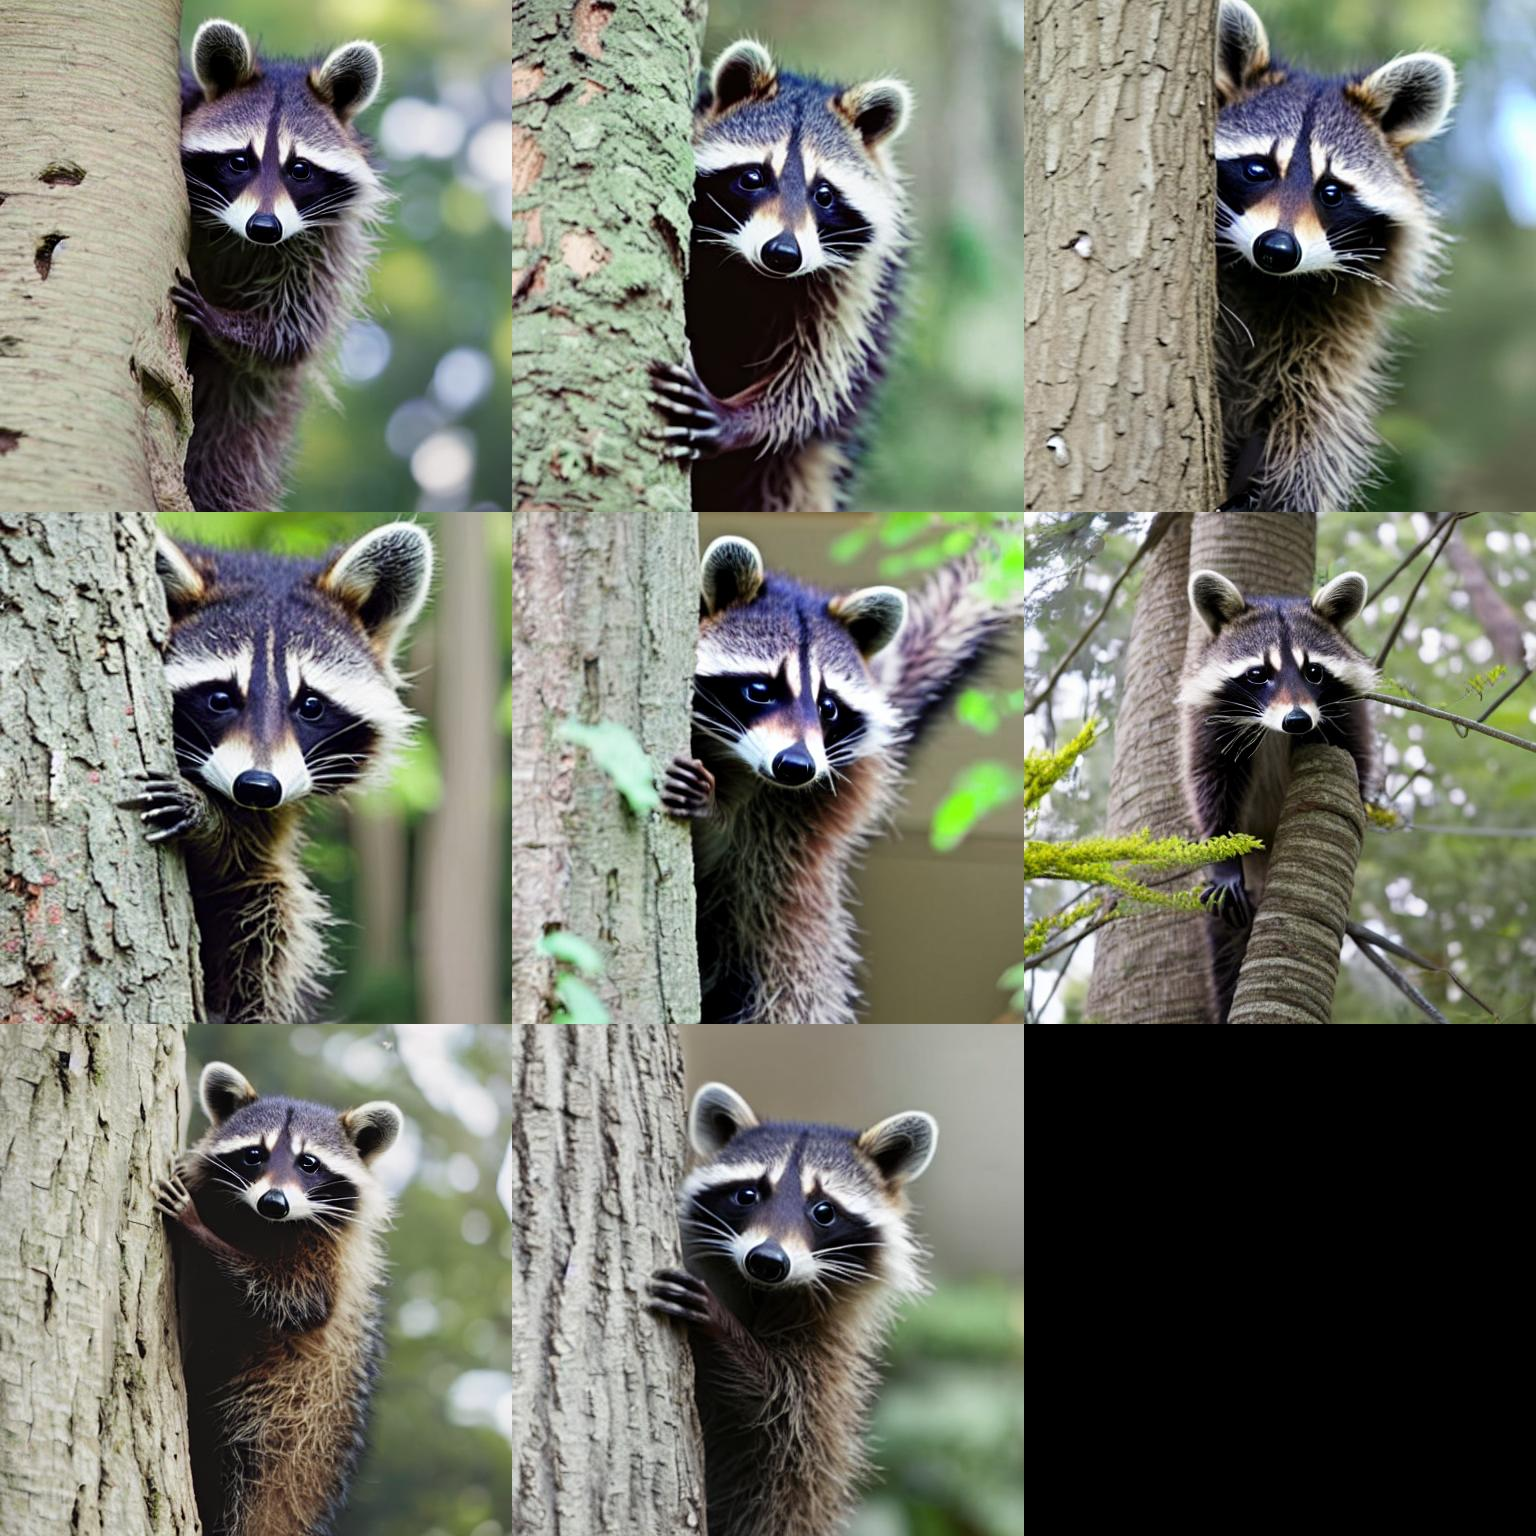raccoon: (145, 516, 446, 1014), (1212, 0, 1468, 508), (692, 1076, 954, 1533), (691, 530, 921, 1021), (191, 1052, 421, 1536), (702, 30, 927, 497), (177, 15, 391, 506), (1173, 567, 1393, 852)
